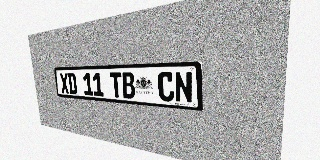1: (82, 73, 94, 96), (92, 73, 104, 96)
B: (121, 72, 136, 99)
C: (157, 72, 175, 102)
D: (67, 73, 78, 94)
N: (174, 71, 193, 103)
T: (109, 72, 123, 98)
X: (59, 73, 69, 94)
